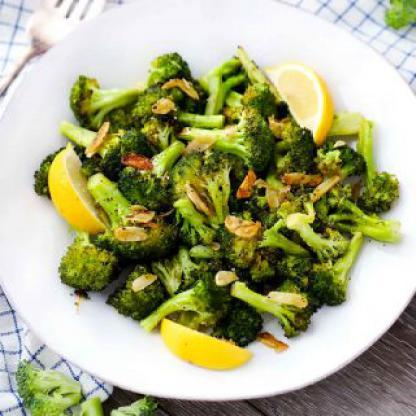broccoli: (31, 46, 403, 348)
